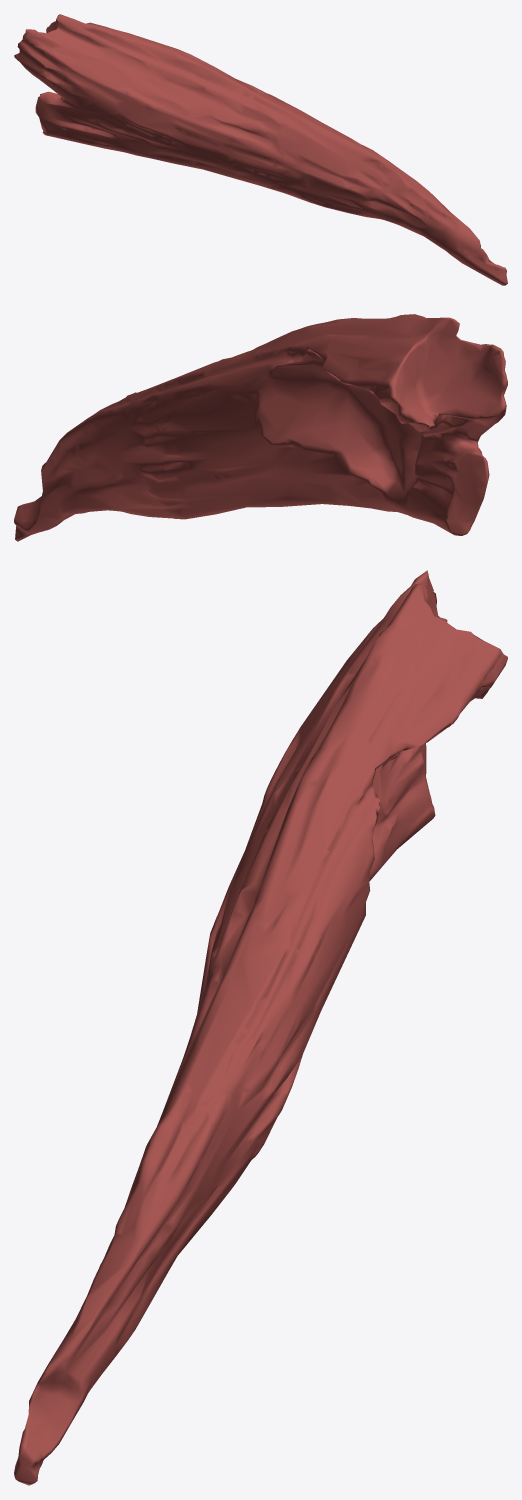
File: FMA46122.glb
The picture shows the model from 3 angles, top to bottom: view 1: azimuth 30°, elevation 25°; view 2: azimuth 150°, elevation 25°; view 3: azimuth 270°, elevation 25°; orthographic projection. The views are drawn at different scales.
Visible parts, largest first — view 1: FMA46122; view 2: FMA46122; view 3: FMA46122.
Boxes of the visible parts, x1,y1,x2,y2 form: FMA46122: (14, 14, 507, 285); FMA46122: (14, 314, 507, 541); FMA46122: (14, 570, 507, 1485).
Bounding box in the file's own units: 0.0427 × 0.03 × 0.0238.
